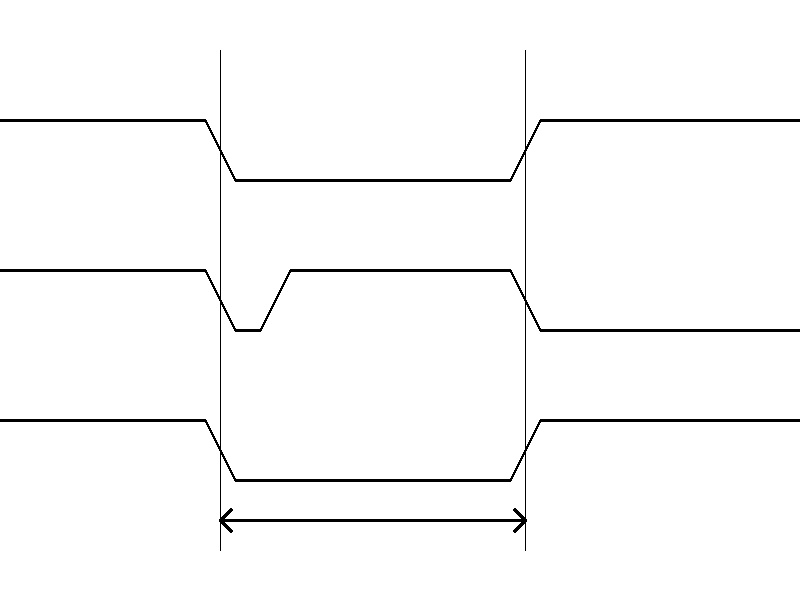double_arrow: (220, 505, 525, 535)
